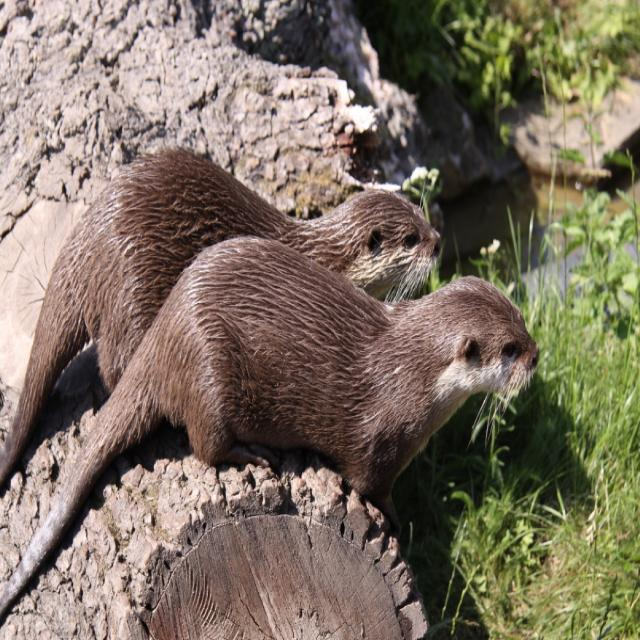otter: (1, 237, 540, 617), (1, 147, 442, 488)
